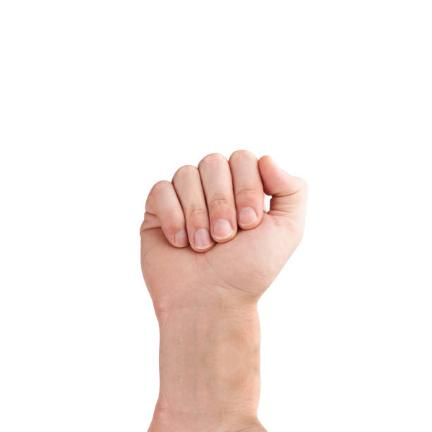Nail: (213, 219, 234, 239), (194, 228, 213, 250), (239, 207, 257, 227), (175, 229, 188, 247)
